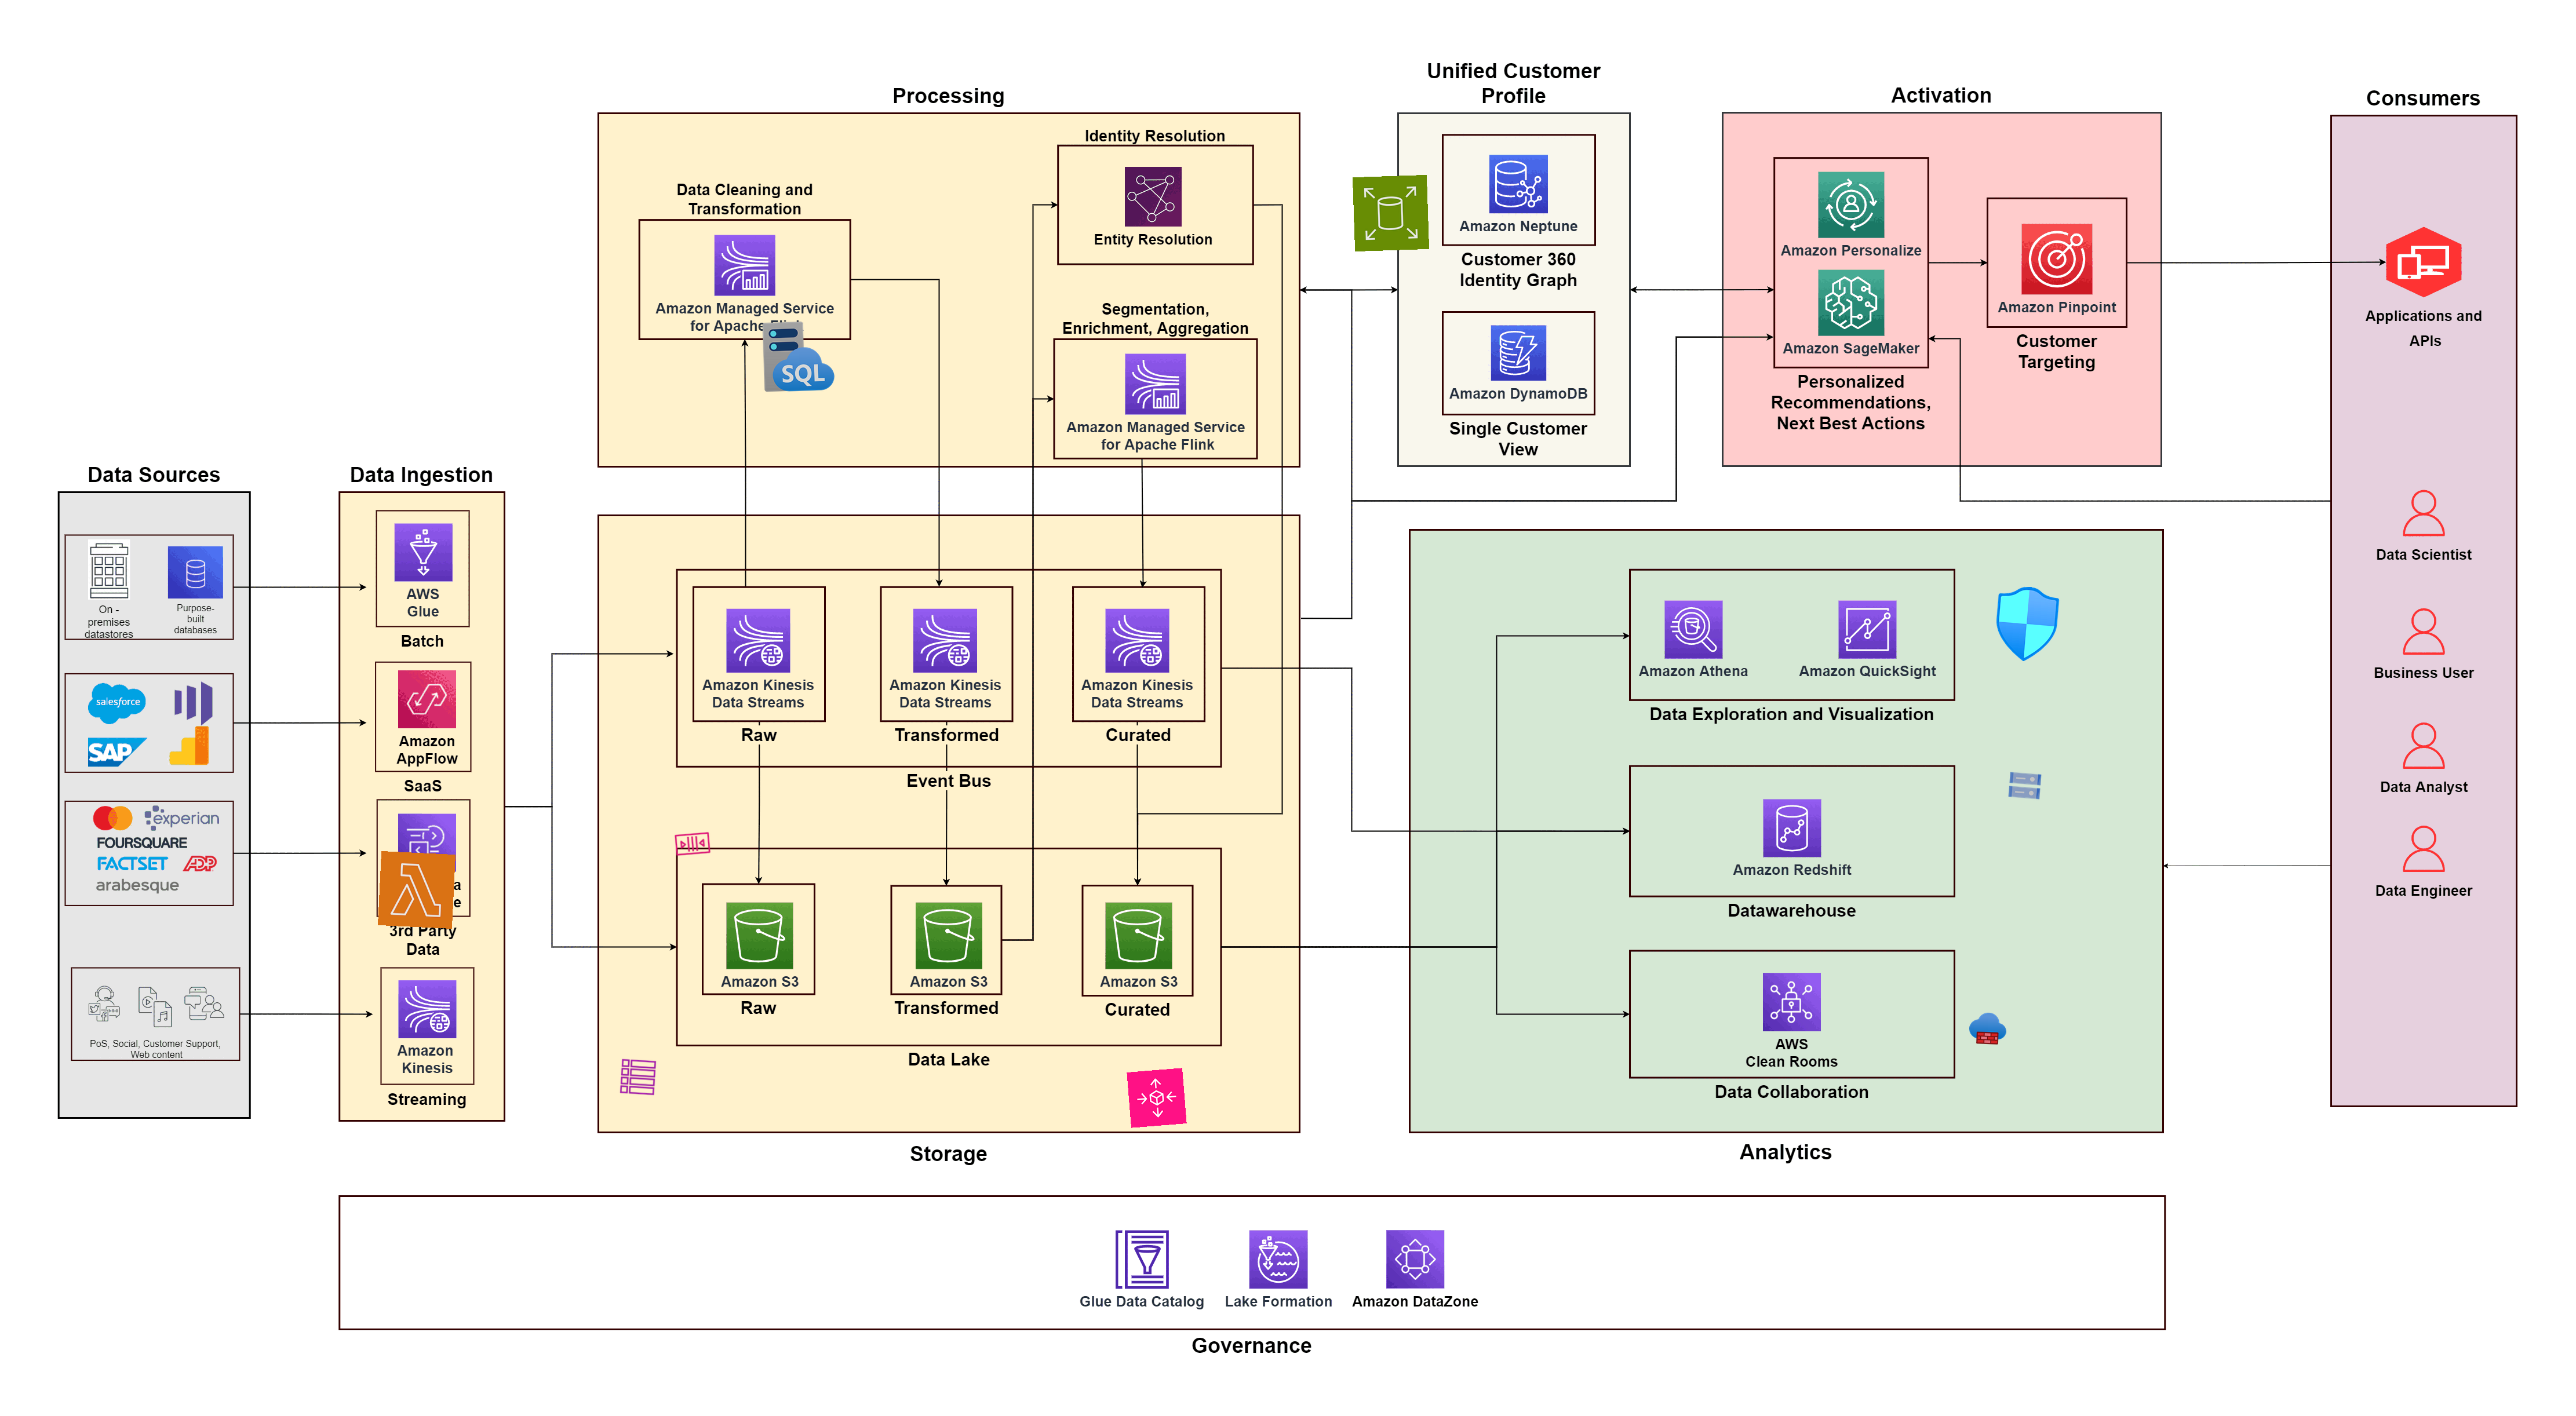aws_amazon_elastic_block_store: (1352, 174, 1430, 253)
aws_auto_scaling: (1127, 1067, 1188, 1128)
aws_dynamodb_table: (619, 1057, 658, 1097)
aws_lambda: (377, 851, 457, 929)
aws_simple_queue_service_queue: (671, 823, 713, 863)
azure_firewalls: (1967, 1008, 2007, 1048)
azure_network_security_groups: (1987, 584, 2067, 664)
azure_sql_managed_instance: (760, 317, 837, 396)
gcp_cloud_storage: (2004, 766, 2046, 806)
